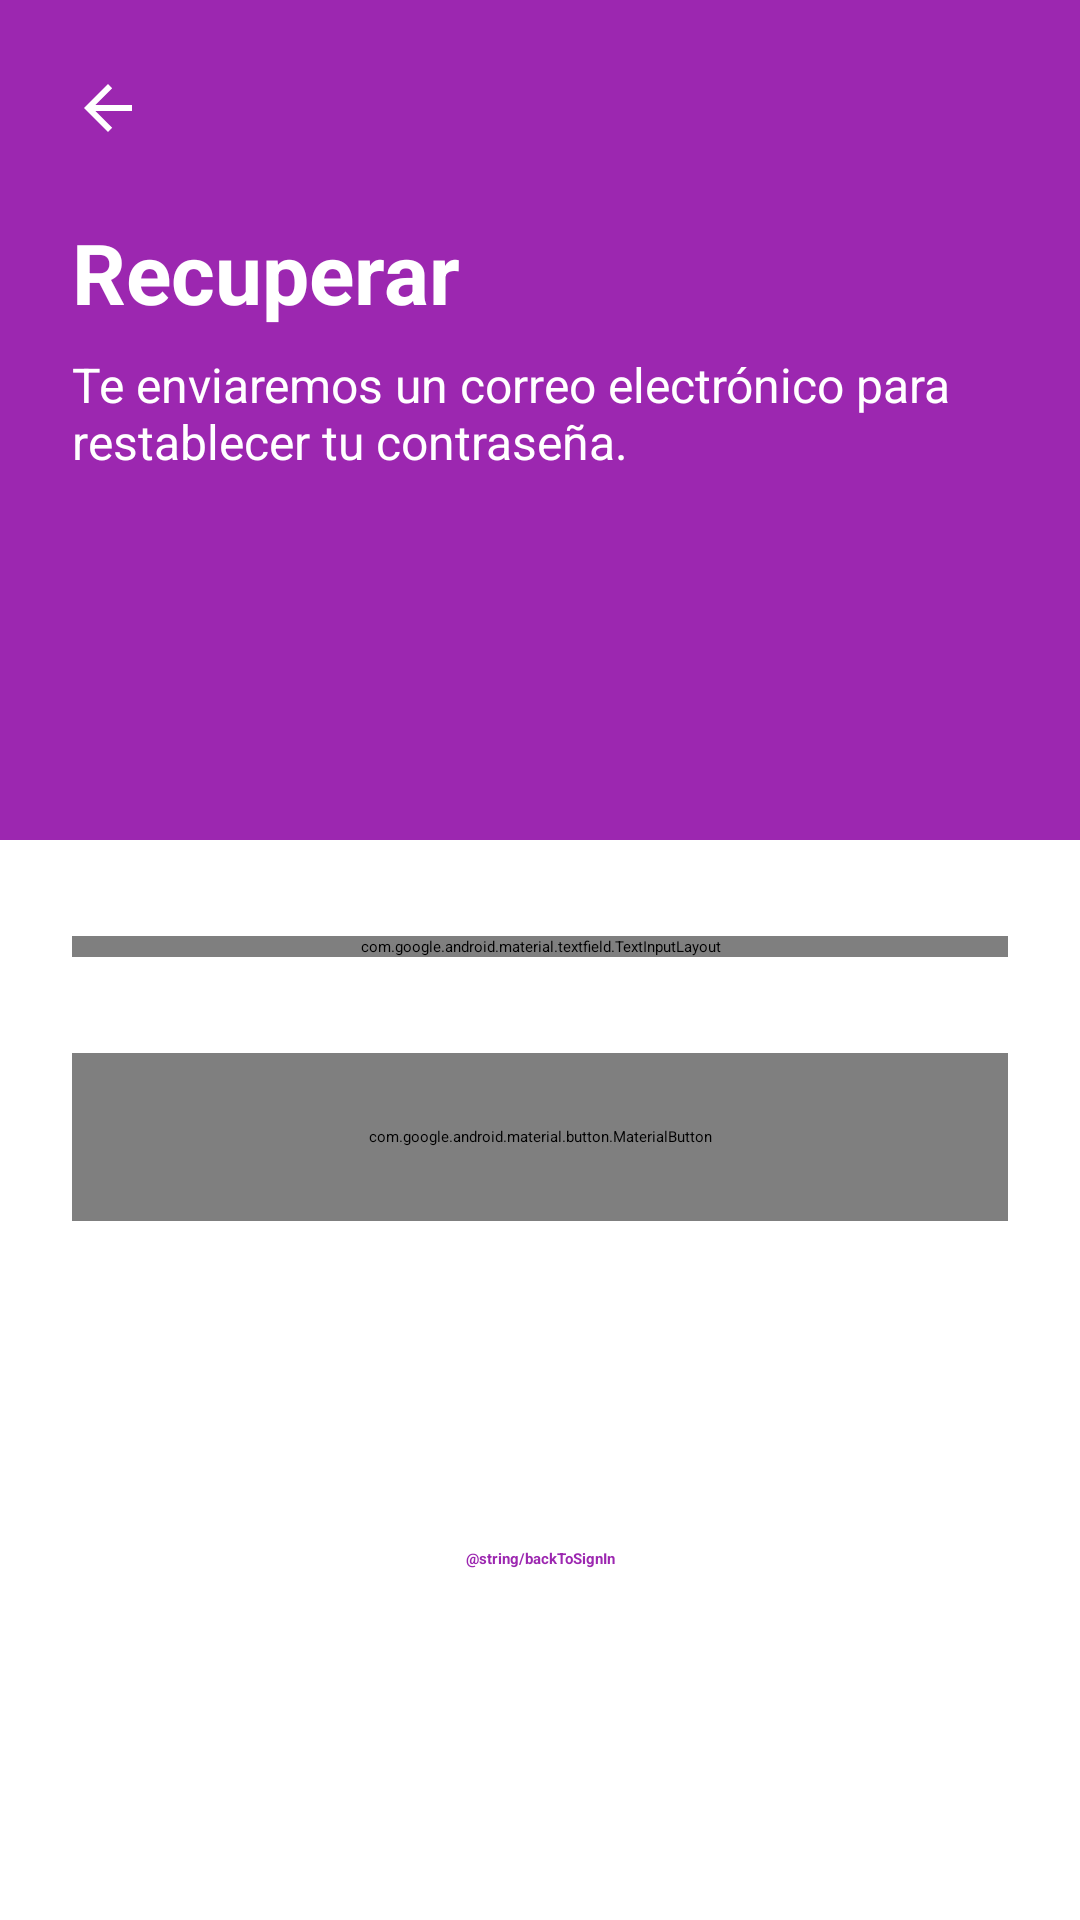

Icon click points for this 1080px×1920px phone screenshot, format (x=x, y=y):
Volver: (x=108, y=108)
